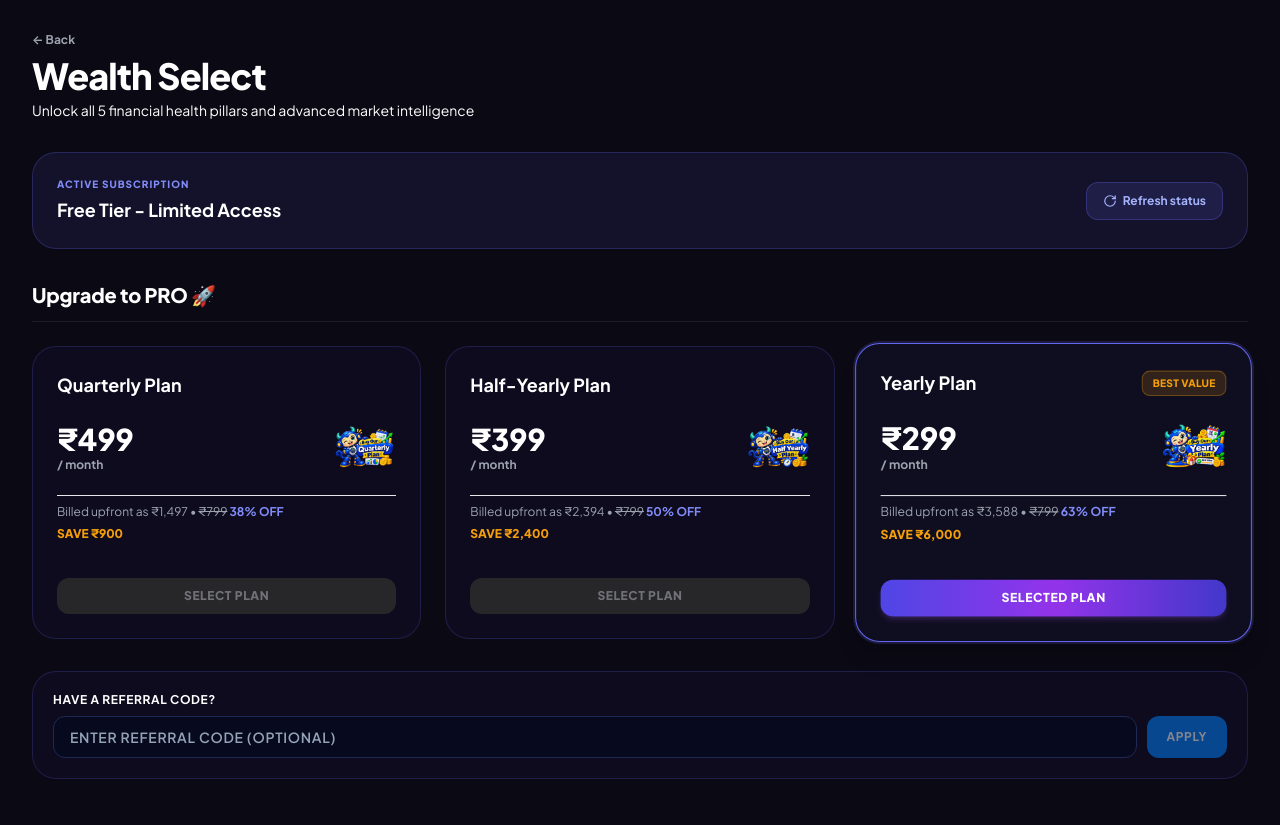
Test case: Referral Flow - SubscriptionPage & RegisterPage › SubscriptionPage Referral Section › switching plan keeps code applied and re-validates discount for the new plan
Note: Apply on Quarterly
Click the element with test id "sub-plan-card-3": click(227, 492) [32, 346, 421, 639]
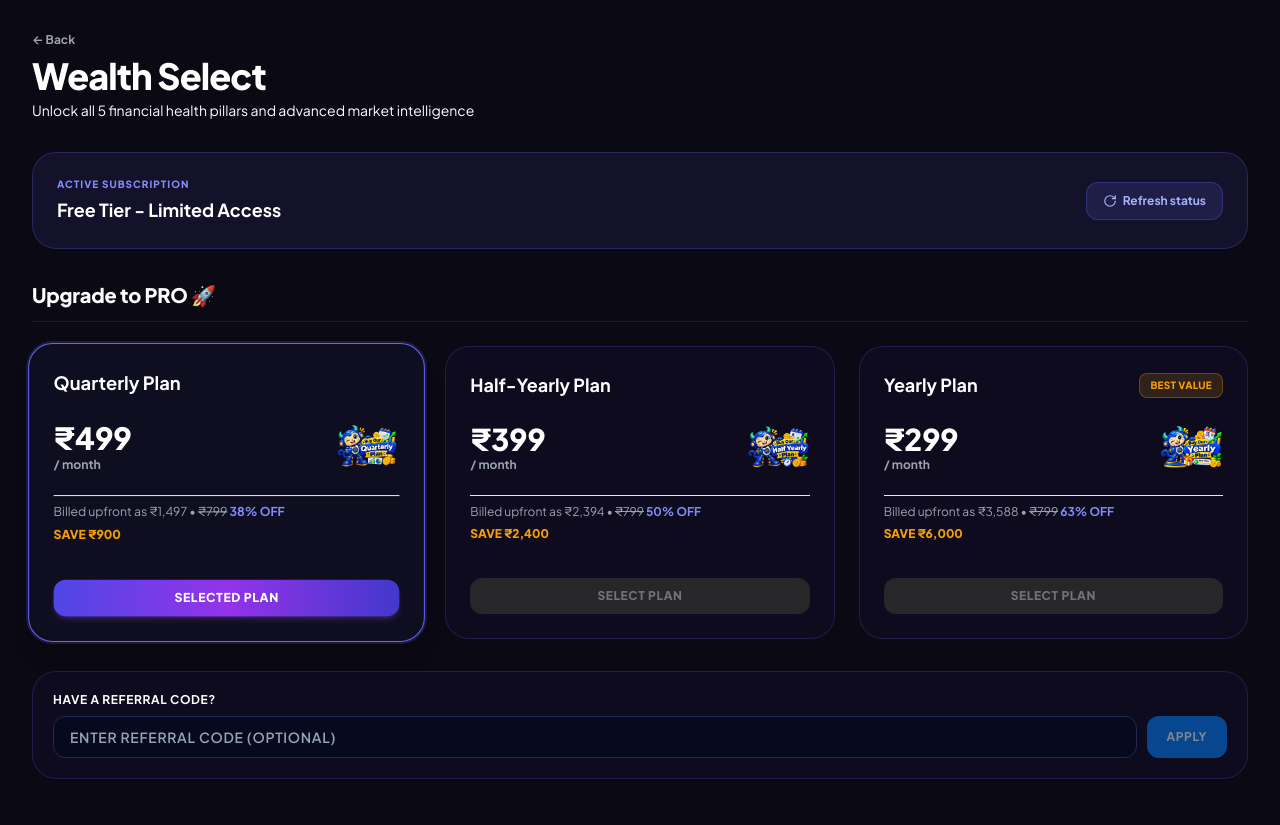
In the field with placeholder "Enter Referral Code (Optional)": (595, 737) [53, 716, 1136, 758], type "FINFREE"
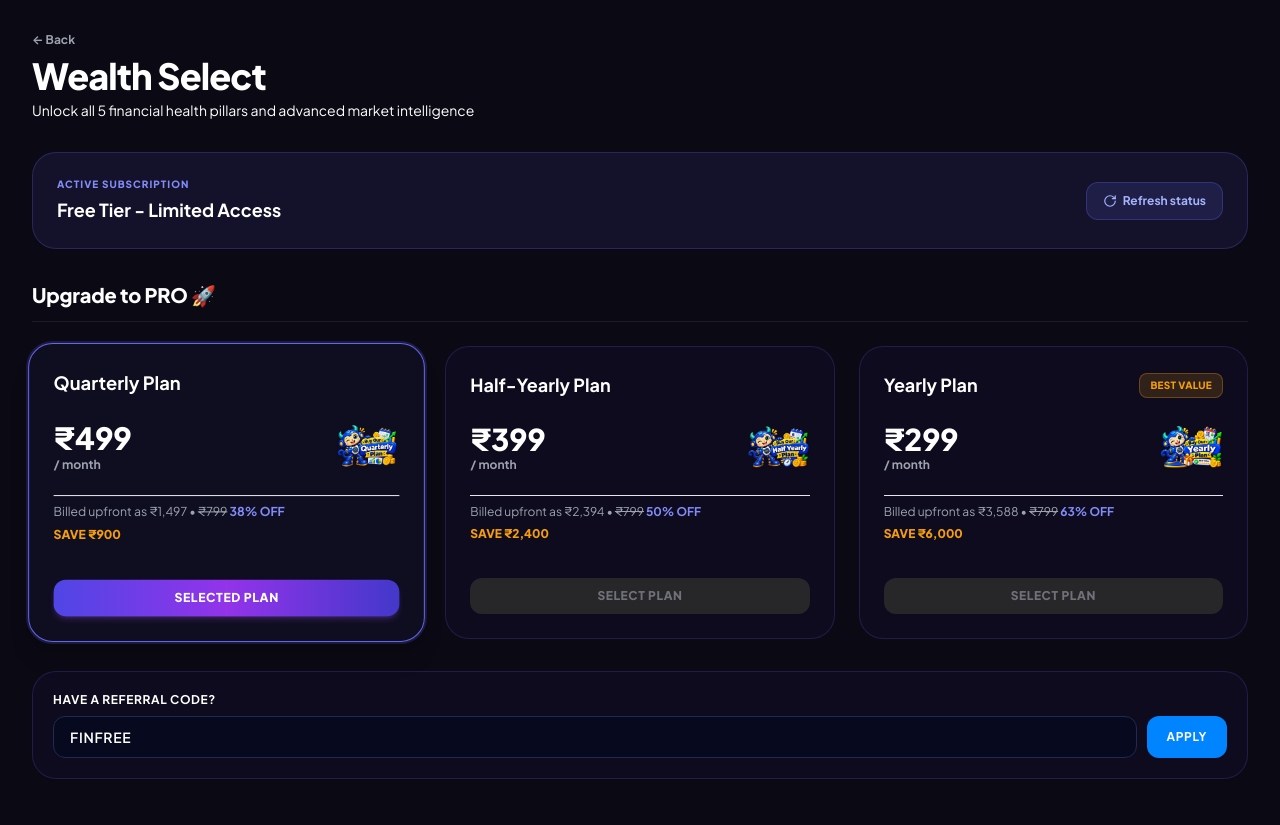
Click the button "APPLY": click(1187, 737) [1146, 716, 1227, 758]
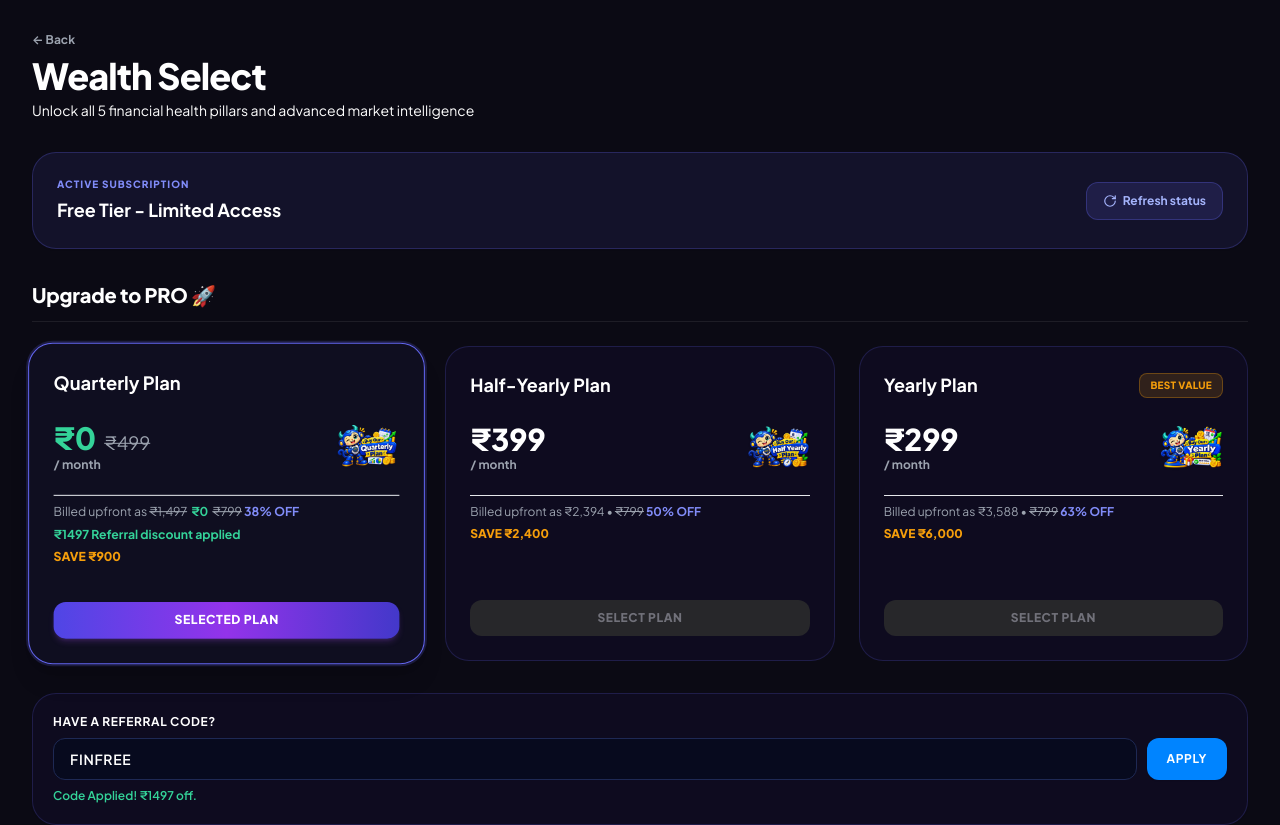
Expected: the text "Code Applied! ₹1497 off." is shown, [53, 788, 197, 803]
Expected: the text "₹1497 Referral discount applied" is shown, [54, 526, 241, 542]
Click the element with test id "sub-plan-card-12": click(1053, 504) [859, 346, 1248, 661]
(page scrolled)
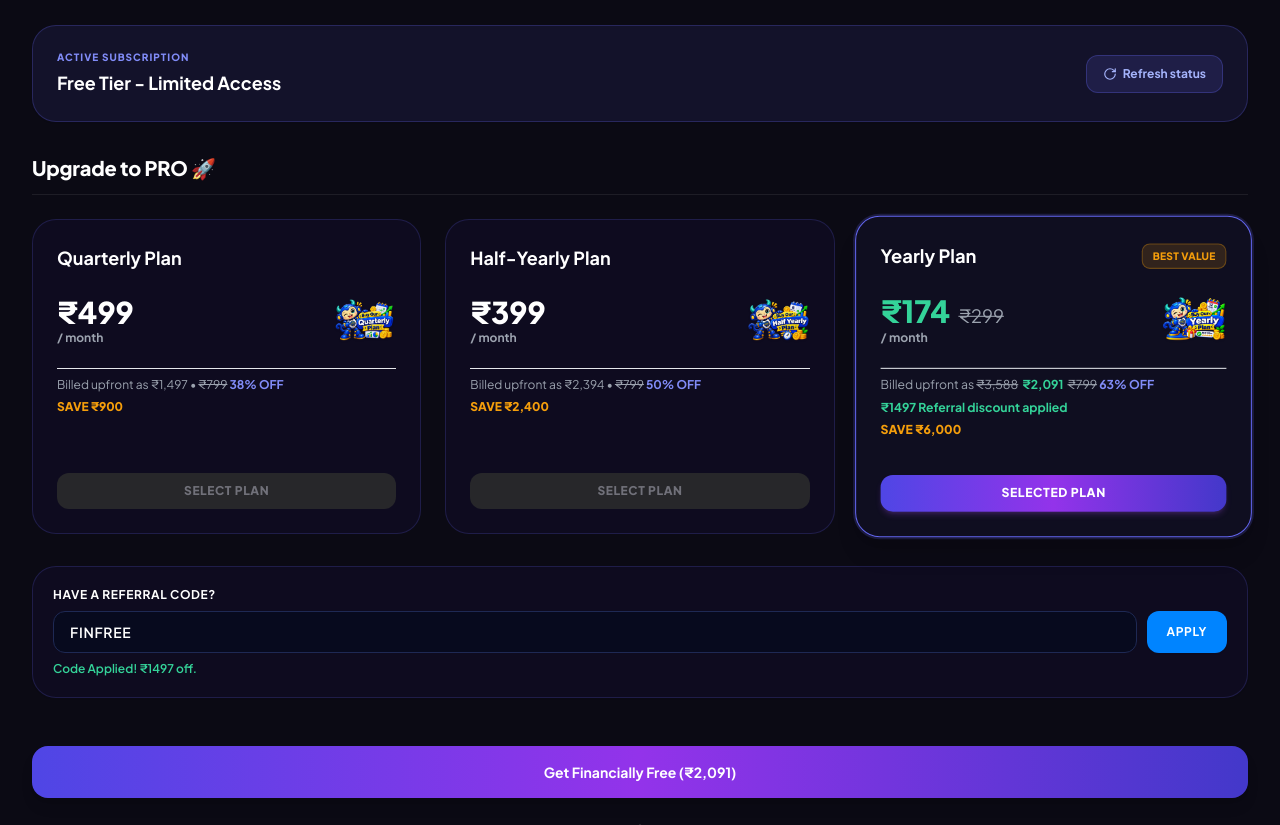
Expected: the text "Code Applied! ₹1497 off." is shown, [53, 661, 197, 676]
Expected: the text "₹1497 Referral discount applied" is shown, [880, 400, 1067, 415]
Expected: the button with test id "buy-plan-btn" reads "Get Financially Free (₹2,091)", [32, 746, 1248, 798]
